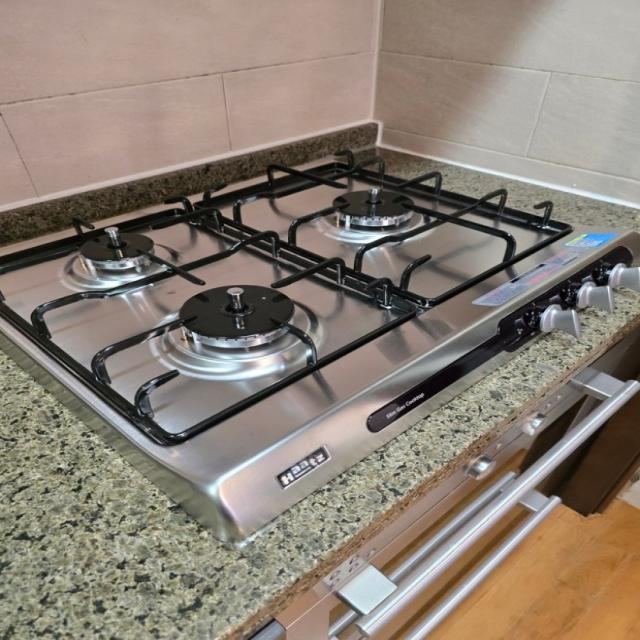knob_ON: (33, 135, 585, 386)
